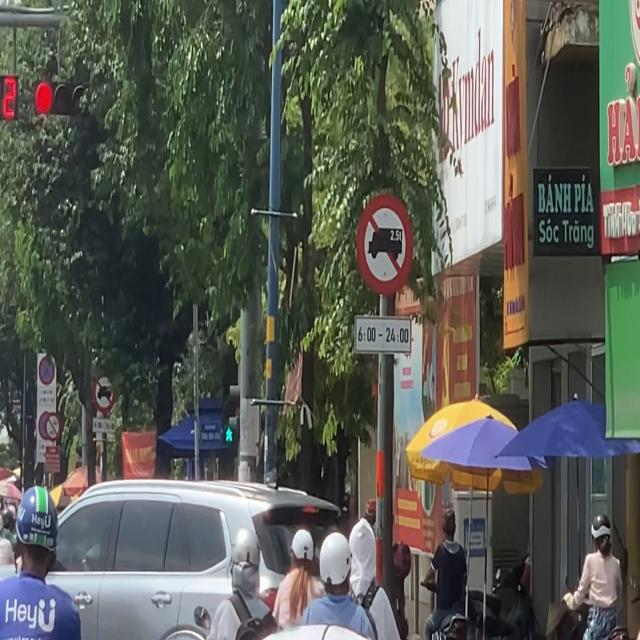Cam con lai: (356, 192, 414, 296), (92, 371, 116, 414)
Cam dung va do: (39, 356, 55, 386)
